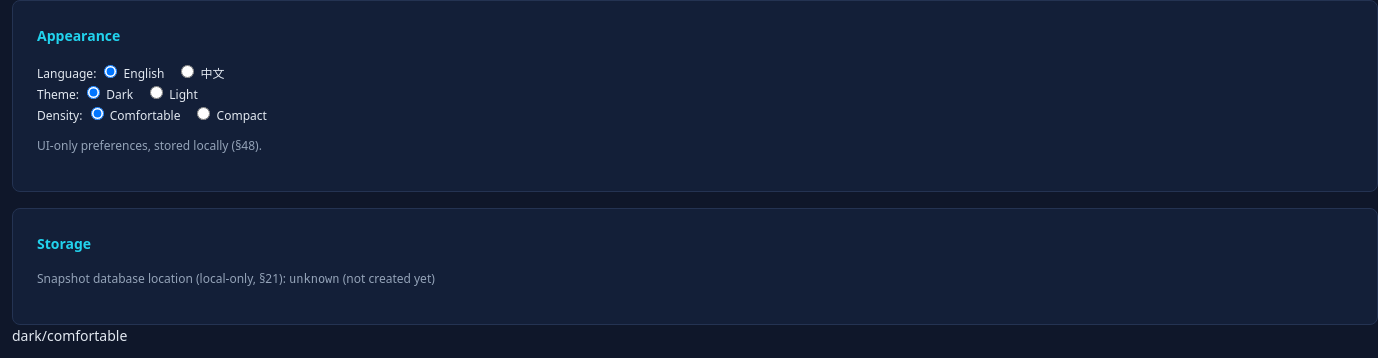
Test: SettingsPage (M12 §48/§11) › density switch applies data-density
The image size is (1378, 358).
Click the text "Compact": click(230, 116) [192,107,267,124]
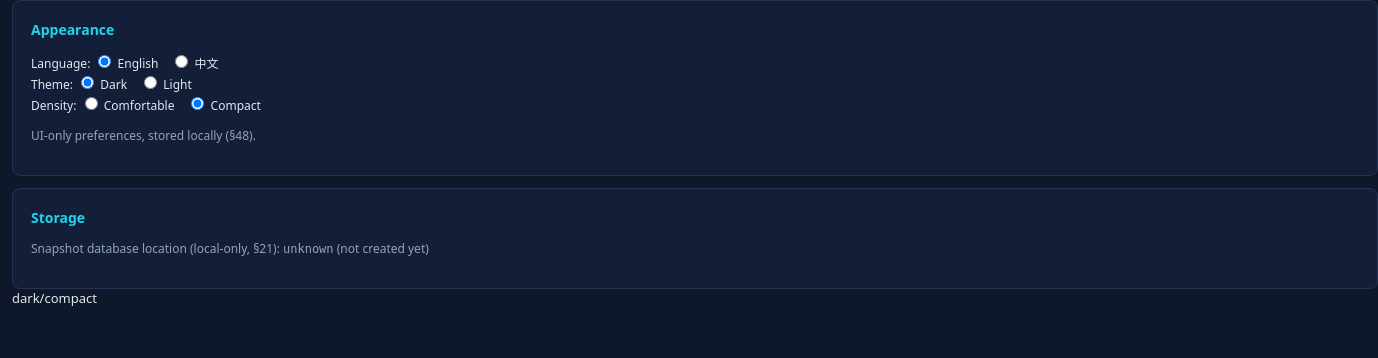
Check: the text with test id "probe" shows "compact", box [44,289,97,307]
